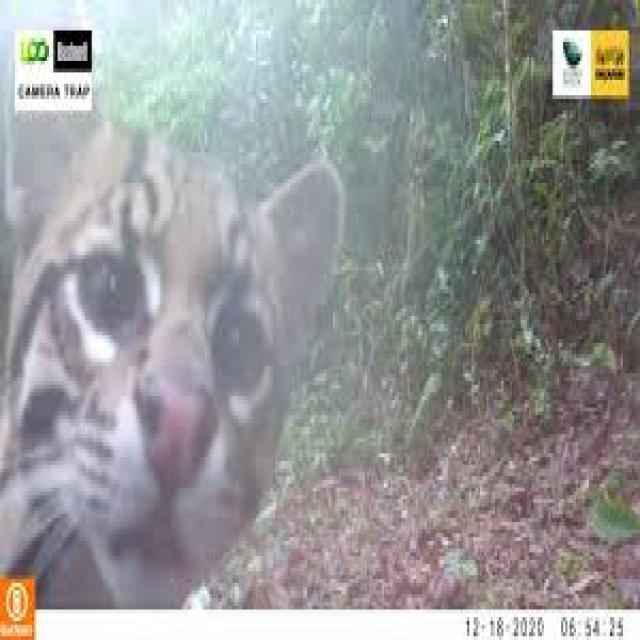Jaguar: (2, 118, 350, 575)
